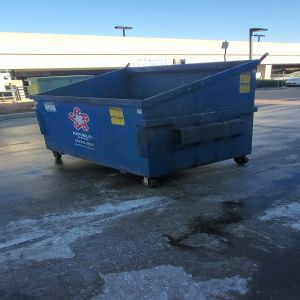Dumpster: (30, 61, 263, 191)
